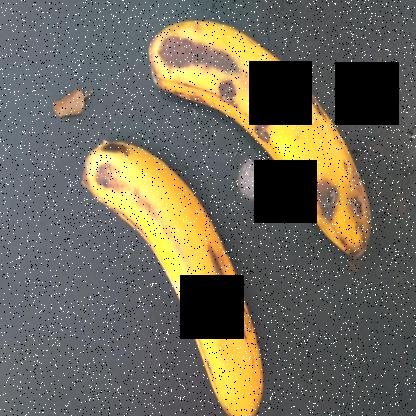overripe: (115, 10, 376, 278)
ripe: (53, 140, 267, 415)
